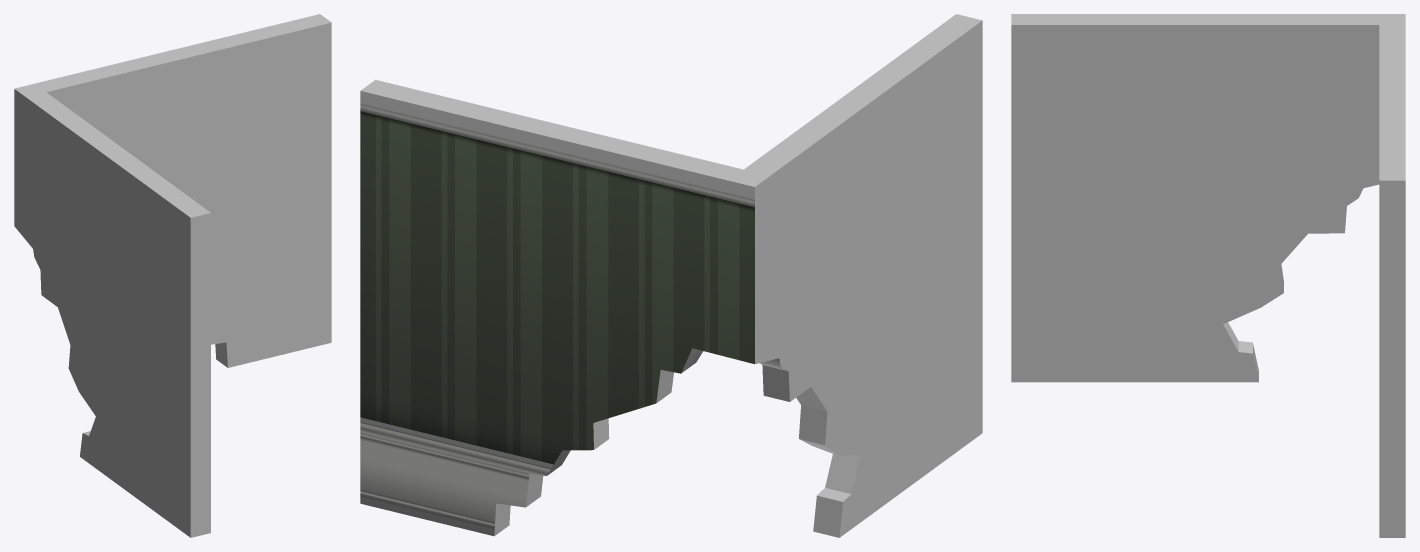
File: wall01_corner_A_destroyed01.fbx
3 views of the same model, side by side, from view 1: azimuth 30°, elevation 25°; view 2: azimuth 150°, elevation 25°; view 3: azimuth 270°, elevation 25° (orthographic). The views are drawn at different scales.
Parts seen in each view (by area): view 1: wall01_corner_A_destroyed01; view 2: wall01_corner_A_destroyed01; view 3: wall01_corner_A_destroyed01.
Part boxes in pixels (box(x1,y1,x2,y2)): wall01_corner_A_destroyed01: box(14, 14, 331, 537); wall01_corner_A_destroyed01: box(360, 14, 982, 537); wall01_corner_A_destroyed01: box(1011, 14, 1405, 537).
Size of the model in its own units: 300 by 300 by 300.
